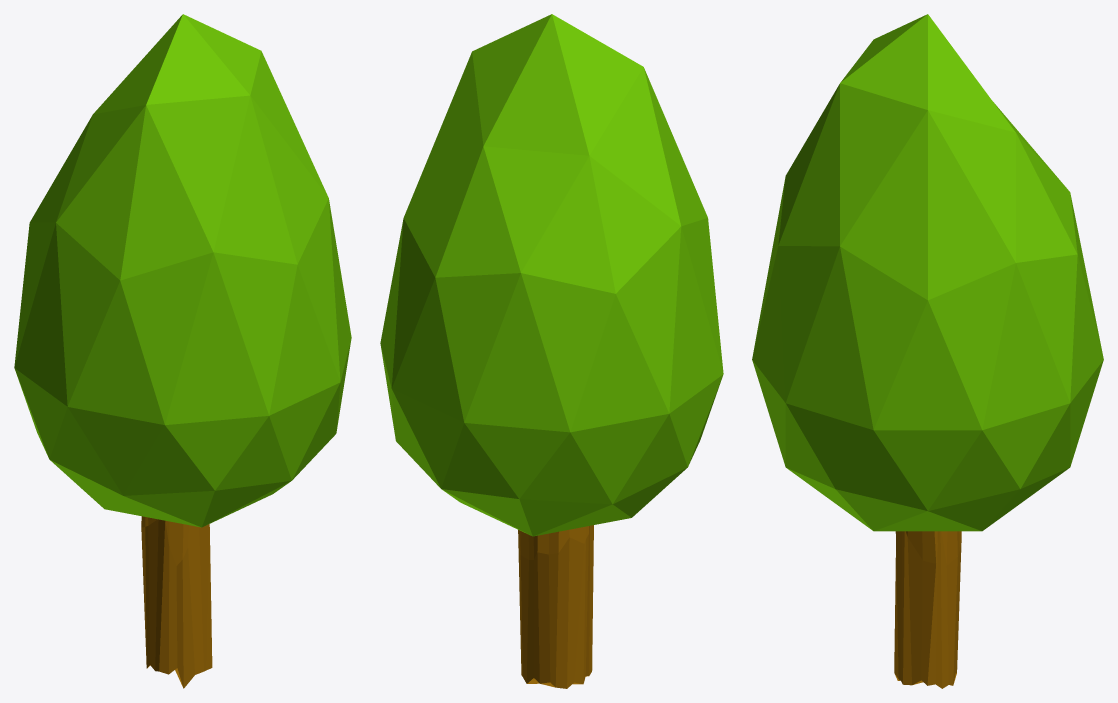
File: Arbres_Fractal_Lunatic_Grand.fbx
The picture shows the model from 3 angles, left to right: view 1: azimuth 30°, elevation 25°; view 2: azimuth 150°, elevation 25°; view 3: azimuth 270°, elevation 25°; orthographic projection. The views are drawn at different scales.
Parts seen in each view (by area): view 1: Cylinder; view 2: Cylinder; view 3: Cylinder.
Boxes of the visible parts, box(x1,y1,x2,y2) form: Cylinder: box(14, 14, 351, 688); Cylinder: box(380, 14, 723, 688); Cylinder: box(752, 14, 1103, 688).
Bounding box in the file's own units: 4.8 × 10.67 × 5.05.
